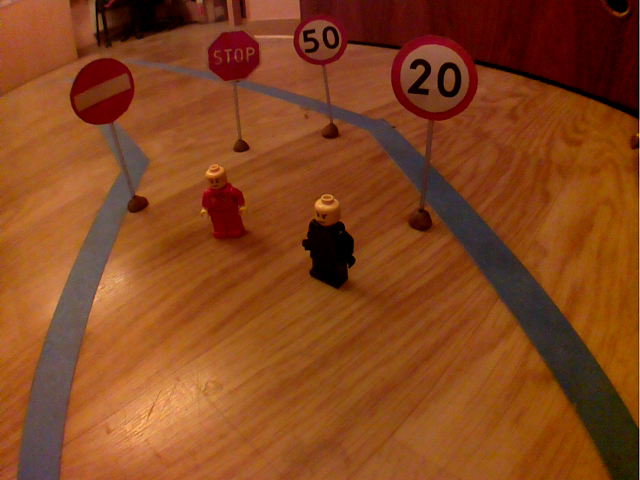Ograniczenie 20: (386, 30, 482, 126)
Ograniczenie 50: (289, 12, 351, 69)
Postac LEGO: (297, 189, 361, 296), (193, 158, 257, 244)
Stop: (204, 25, 268, 86)
Zakaz: (67, 55, 139, 130)
